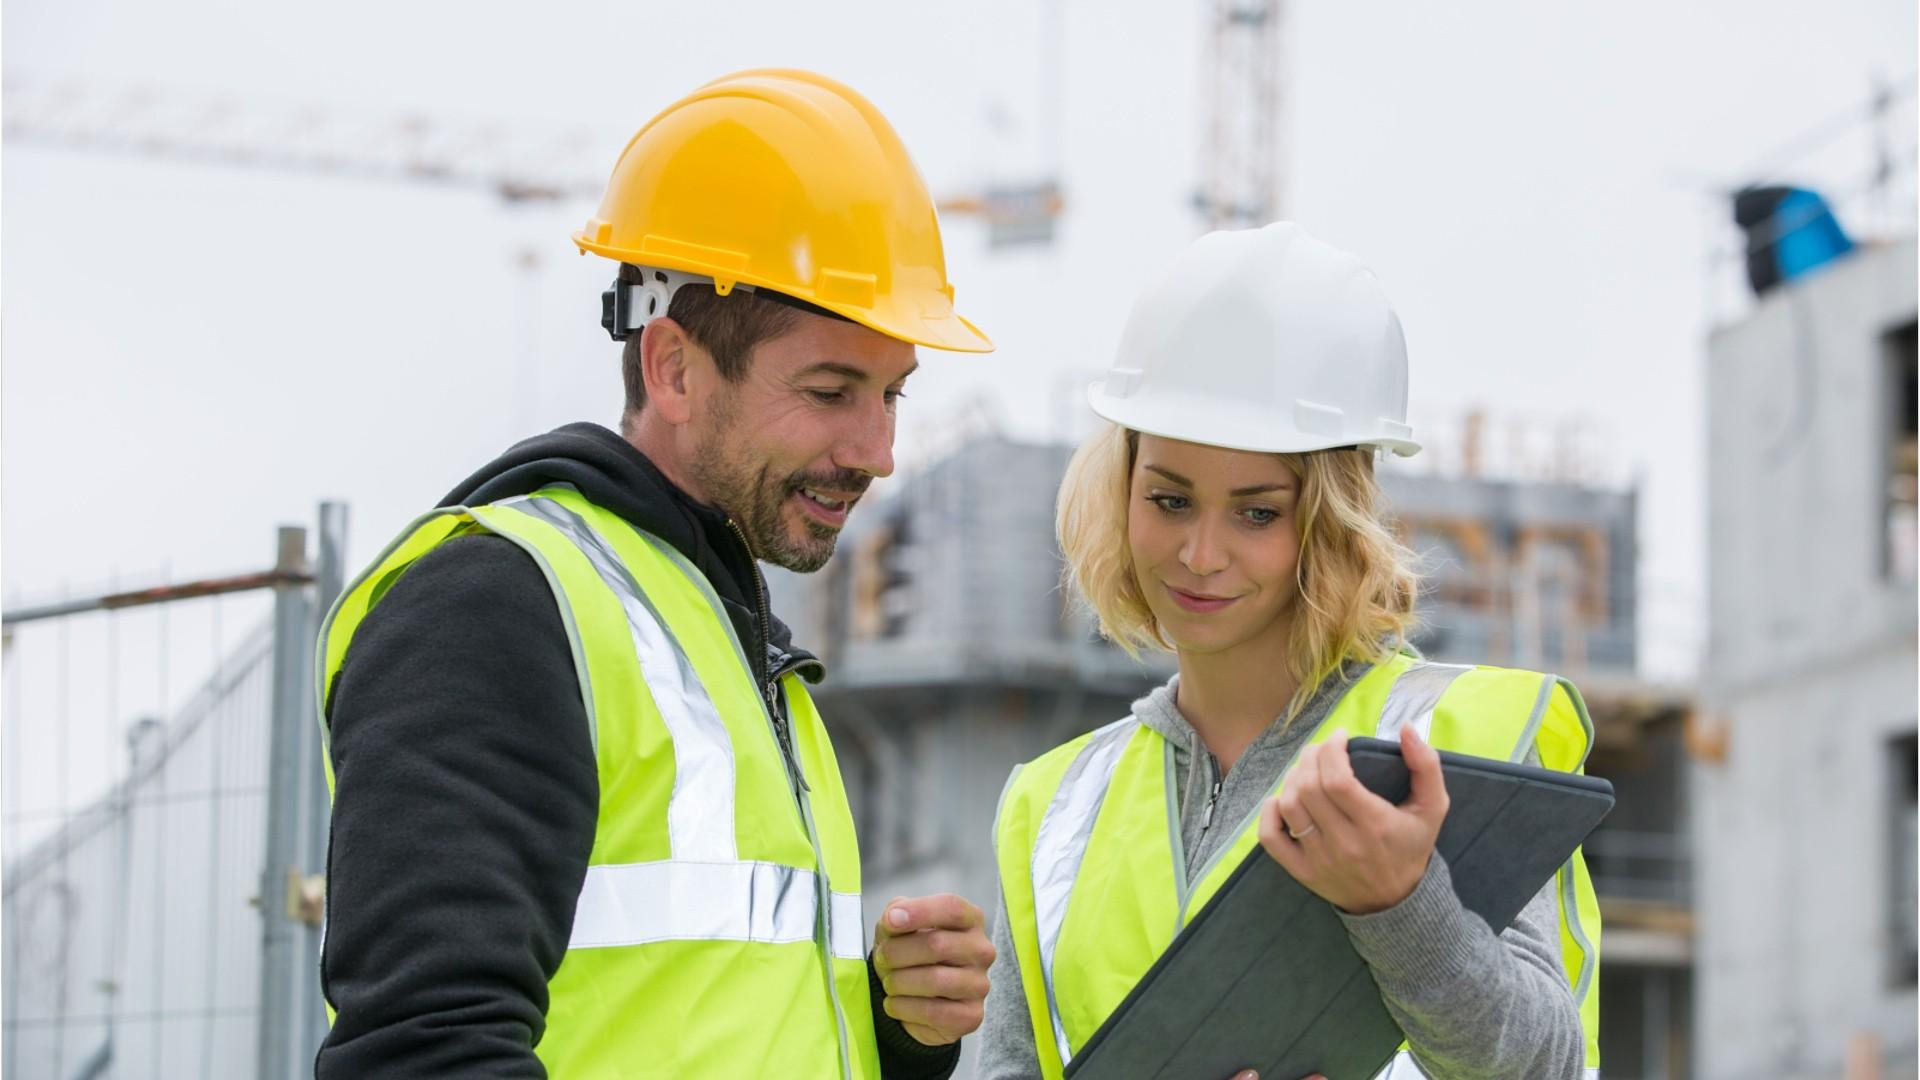helmet: (585, 69, 994, 363), (1083, 222, 1429, 454)
